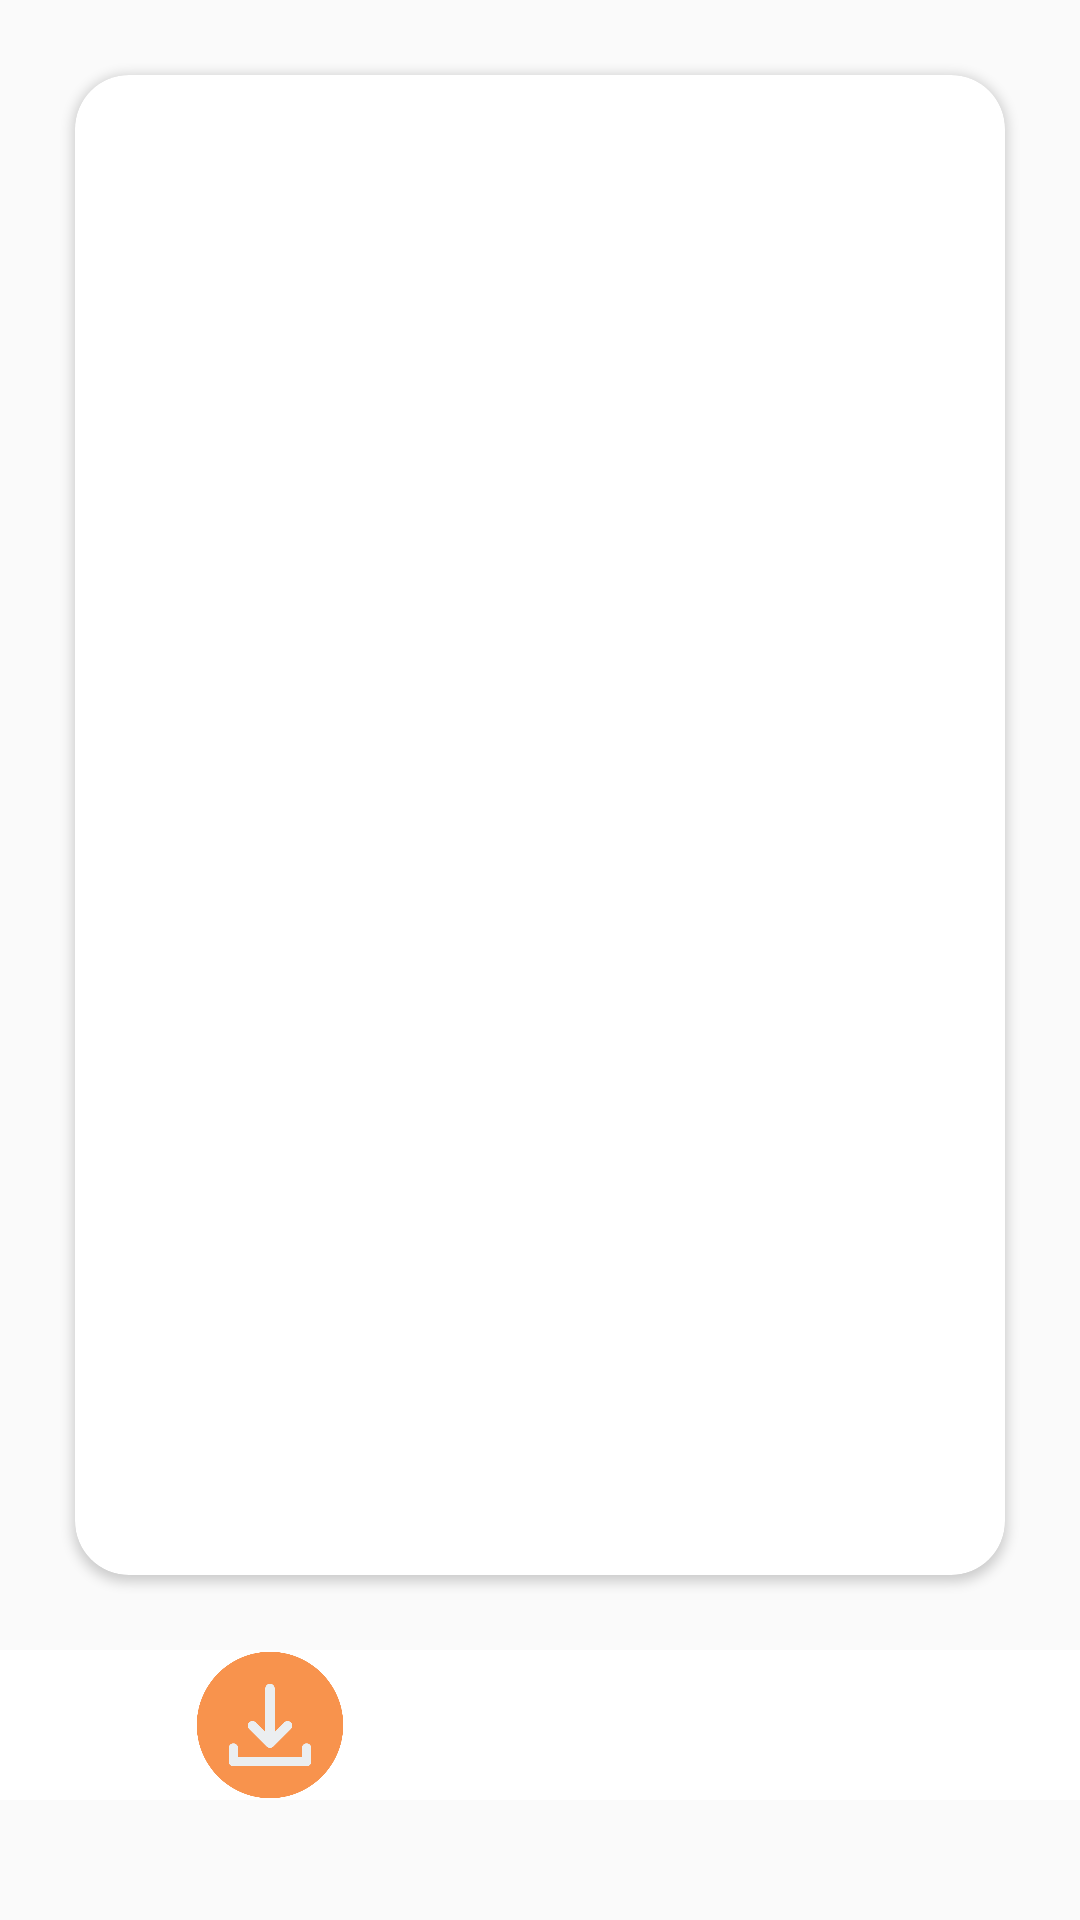

Locate icon controls on the screen. Image size 1080*1920, boxes as (left=x1, top=y1, right=x2, bottom=y2).
download: (left=197, top=1652, right=343, bottom=1798)
